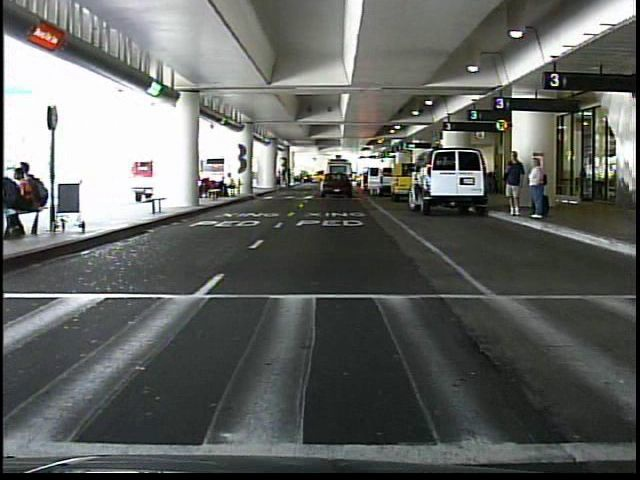person: (501, 146, 525, 219), (526, 153, 548, 224), (334, 171, 344, 193)
